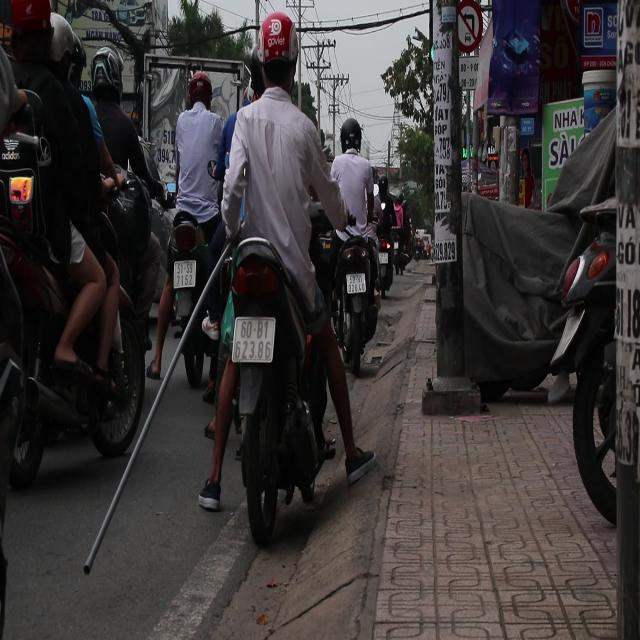car: (476, 173, 498, 200)
motorbike: (0, 158, 149, 510), (222, 225, 322, 529), (329, 218, 382, 373)
